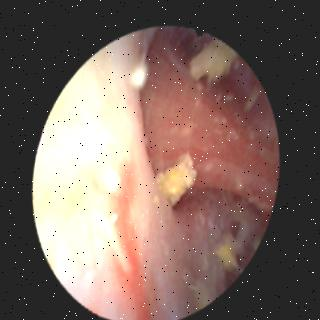stone: (155, 151, 198, 199), (191, 36, 235, 78), (217, 240, 239, 266)
tissue: (39, 28, 276, 314)
